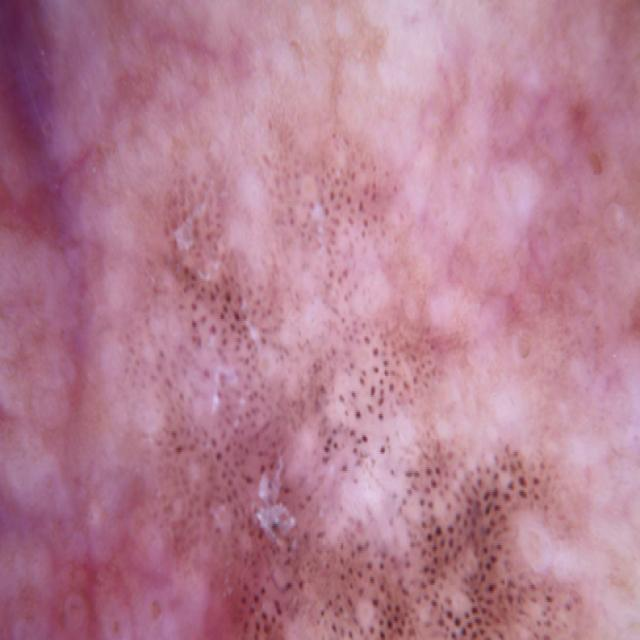Carcinoma: (120, 104, 622, 640)
